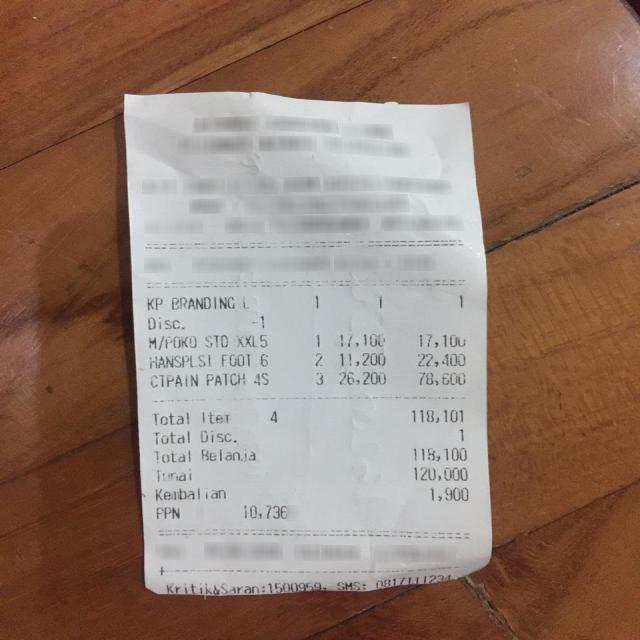kertas: (123, 84, 497, 599)
